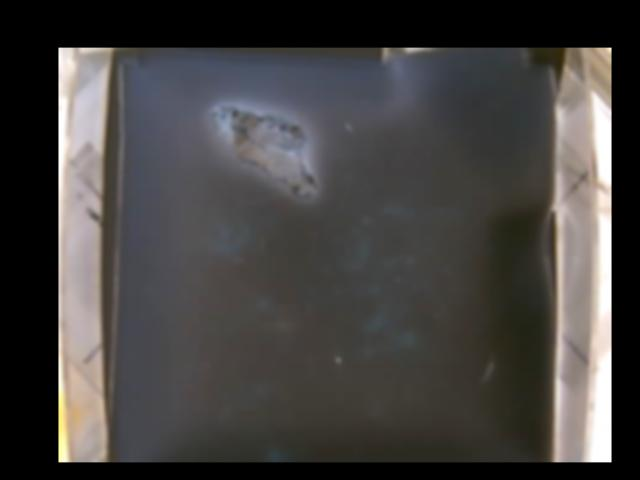Brisk: (207, 105, 319, 197)
